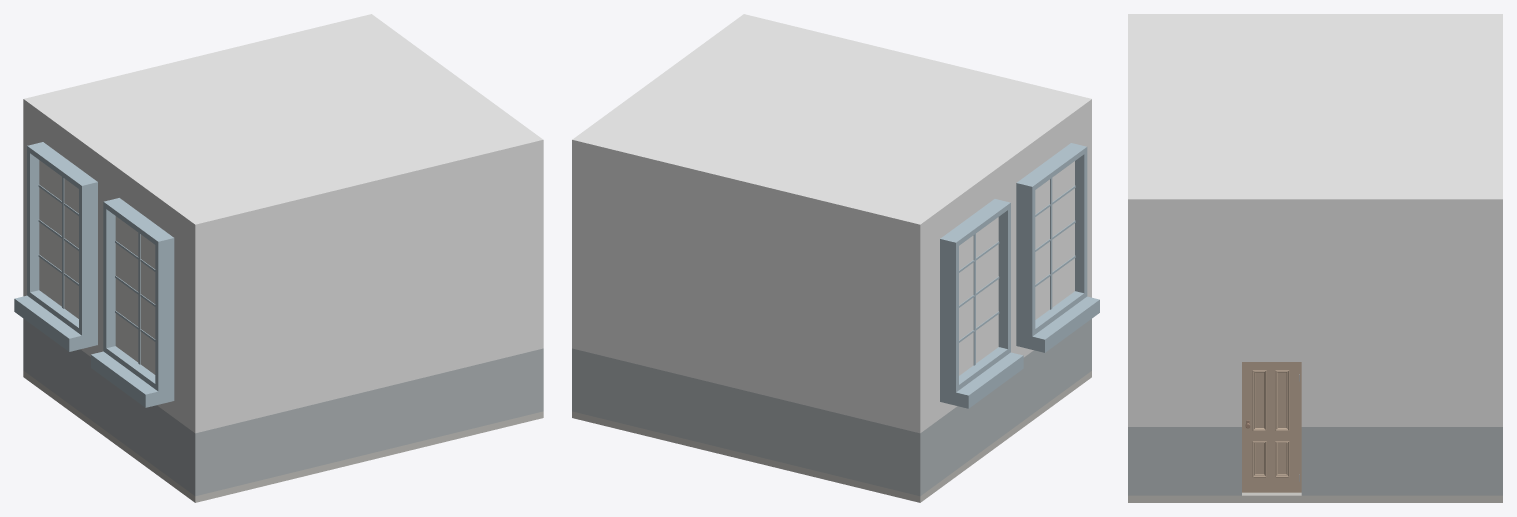
Rendered from 883_guest_room.glb.
3 renders of one model, left to right at view 1: azimuth 30°, elevation 25°; view 2: azimuth 150°, elevation 25°; view 3: azimuth 270°, elevation 25°, orthographic. The views are drawn at different scales.
Parts seen in each view (by area): view 1: kabe3, 天井, kabe4, 床, kabe2, kabe1; view 2: kabe1, 天井, kabe4, 床, kabe2; view 3: kabe2, 天井, 戸, 床, kabe1, kabe3.
Boxes of the visible parts, left/top/right/bottom form: kabe3: left=189, top=147, right=543, bottom=496; 天井: left=23, top=14, right=543, bottom=231; kabe4: left=14, top=108, right=204, bottom=495; 床: left=23, top=371, right=543, bottom=502; kabe2: left=534, top=146, right=543, bottom=413; kabe1: left=23, top=106, right=28, bottom=374; kabe1: left=572, top=146, right=925, bottom=495; 天井: left=572, top=14, right=1091, bottom=231; kabe4: left=911, top=106, right=1099, bottom=496; 床: left=572, top=371, right=1091, bottom=502; kabe2: left=572, top=147, right=581, bottom=413; kabe2: left=1128, top=206, right=1502, bottom=495; 天井: left=1128, top=14, right=1502, bottom=206; 戸: left=1244, top=362, right=1299, bottom=490; 床: left=1128, top=492, right=1502, bottom=502; kabe1: left=1491, top=206, right=1502, bottom=495; kabe3: left=1128, top=206, right=1139, bottom=495.
Size of the model in its own units: 5.95 by 4.2 by 4.7.
